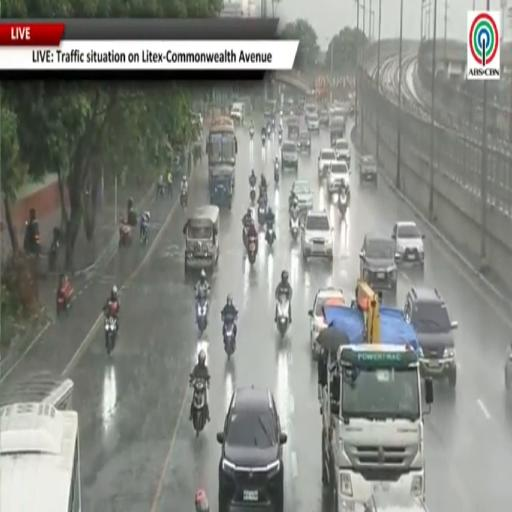bus: (0, 381, 81, 511), (0, 372, 73, 410), (206, 117, 237, 184)
car: (217, 387, 287, 511), (404, 287, 458, 388), (309, 287, 345, 357), (360, 234, 399, 294), (301, 211, 333, 261), (392, 221, 424, 267), (361, 493, 428, 511), (327, 162, 349, 196), (289, 181, 313, 212), (358, 155, 377, 186), (318, 148, 336, 178), (281, 140, 298, 170), (334, 138, 350, 167), (298, 131, 312, 155), (230, 103, 245, 124), (505, 344, 511, 392), (306, 113, 320, 133), (318, 106, 329, 126), (305, 103, 317, 121)
jeepney: (184, 205, 220, 273), (206, 117, 237, 189), (209, 166, 233, 209), (330, 117, 345, 148), (287, 117, 300, 140), (264, 101, 276, 121)
motorcycle: (191, 378, 208, 436), (24, 221, 41, 258), (56, 281, 73, 315), (223, 316, 235, 360), (48, 228, 60, 271), (277, 295, 289, 337), (105, 315, 116, 355), (197, 297, 208, 333), (119, 221, 132, 248), (247, 235, 257, 264), (265, 223, 276, 248), (339, 196, 347, 220), (140, 221, 148, 245), (291, 217, 299, 241), (258, 203, 266, 226), (157, 184, 167, 198), (180, 190, 187, 209), (274, 162, 279, 184), (250, 186, 255, 203), (249, 128, 254, 139), (267, 125, 271, 138), (262, 134, 266, 146), (279, 133, 282, 145), (272, 119, 275, 130)
truck: (319, 281, 433, 511), (206, 117, 238, 191)
